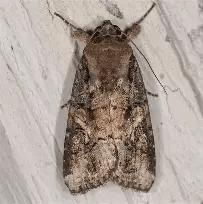army worm adult: (50, 5, 169, 200)
